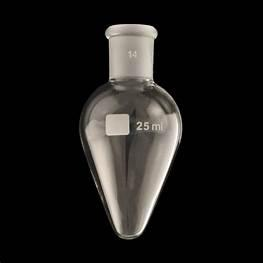Pear shaped flask: (70, 19, 180, 243)
